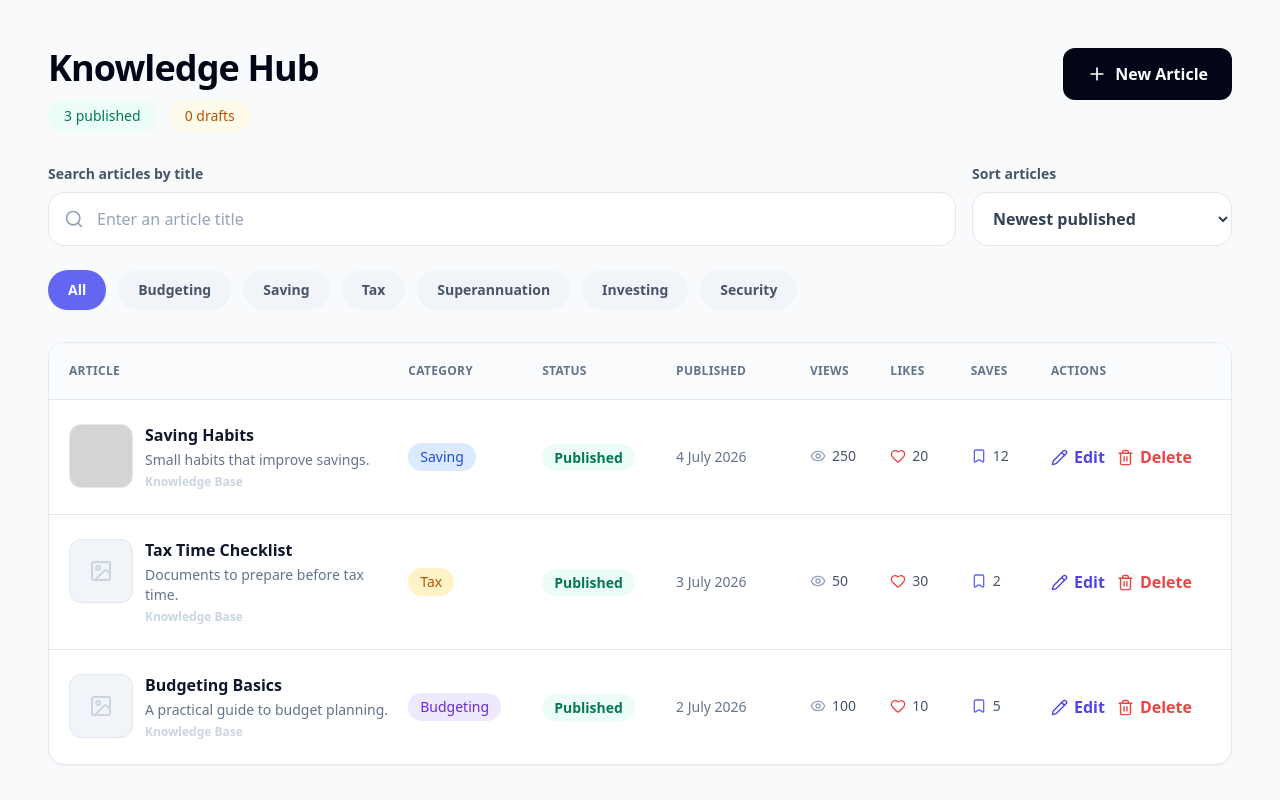
Test: keeps the delete dialog open and reports an error when deletion fails
The image size is (1280, 800).
Expected: the heading "Saving Habits" is shown, [145,424,254,446]
Click the button "Delete" in the row of "12": (1154, 457) [1117,445,1192,469]
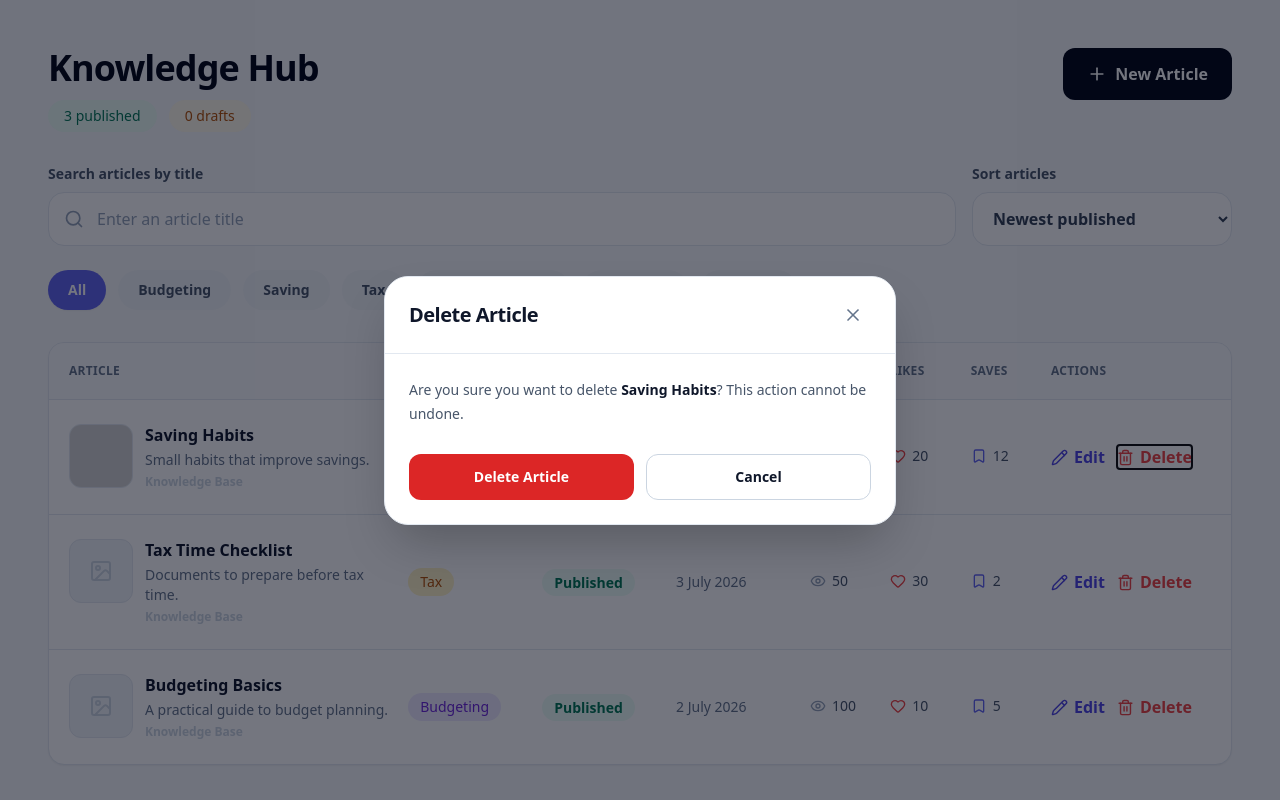
Click the button "Delete Article": (522, 476) [409,454,634,500]
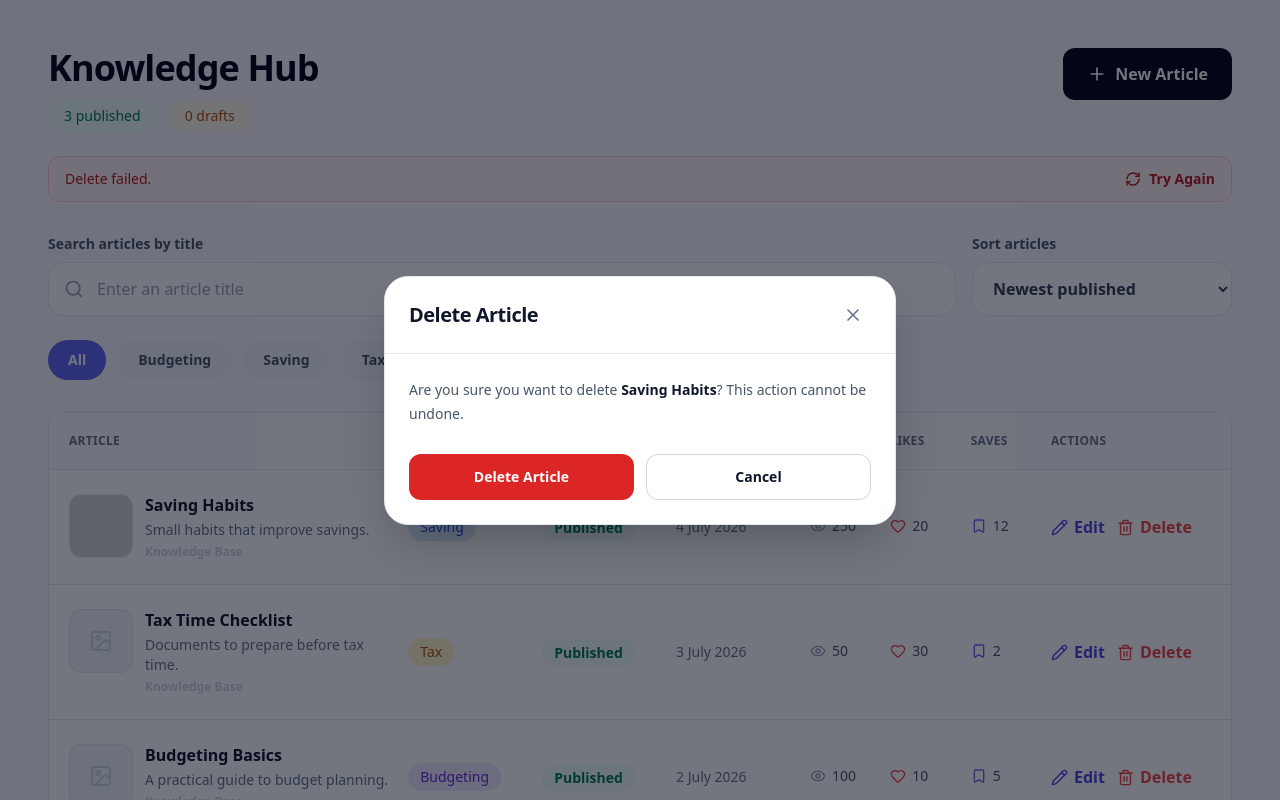
Expected: the dialog "Delete Article" is shown, [384,276,896,524]
Expected: the message shows "Delete failed.", [65,169,151,188]
